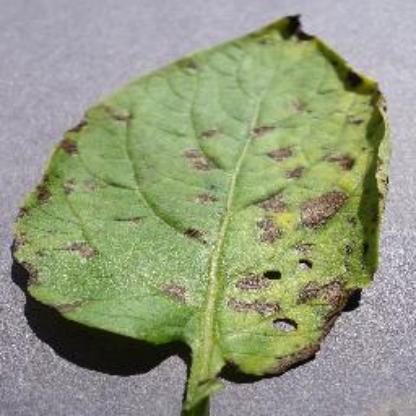Early-Blight: (13, 8, 393, 408)
